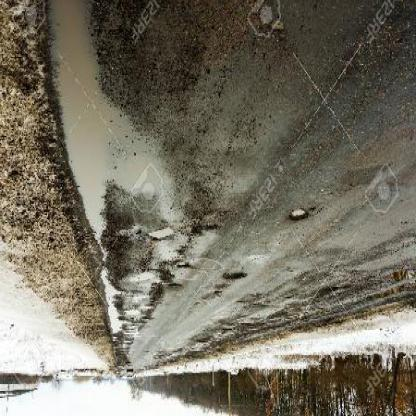pothole: (148, 228, 176, 244), (290, 209, 311, 224), (224, 273, 250, 284), (179, 263, 191, 271)
